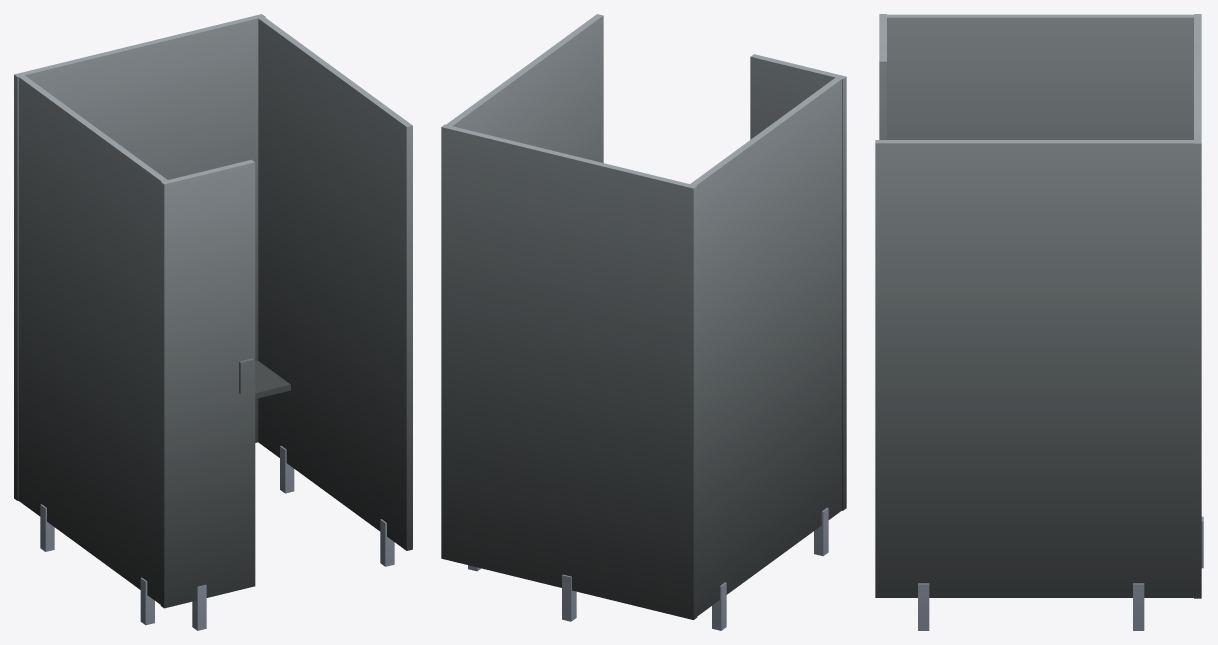
File: Changing Cubicle.fbx
The picture shows the model from 3 angles, left to right: view 1: azimuth 30°, elevation 25°; view 2: azimuth 150°, elevation 25°; view 3: azimuth 270°, elevation 25°; orthographic projection. The views are drawn at different scales.
Parts seen in each view (by area): view 1: Changing Cubicle; view 2: Changing Cubicle; view 3: Changing Cubicle.
Part boxes in pixels (x1,y1,x2,y2): Changing Cubicle: (14,14,412,630); Changing Cubicle: (441,14,846,630); Changing Cubicle: (875,14,1203,630).
Bounding box in the file's own units: 120 × 210 × 128.
